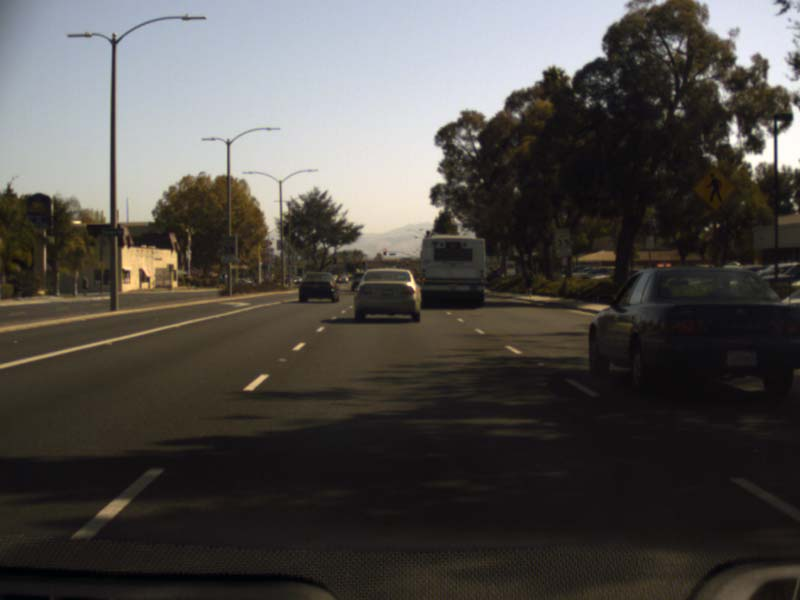Red: (383, 248, 386, 254)
